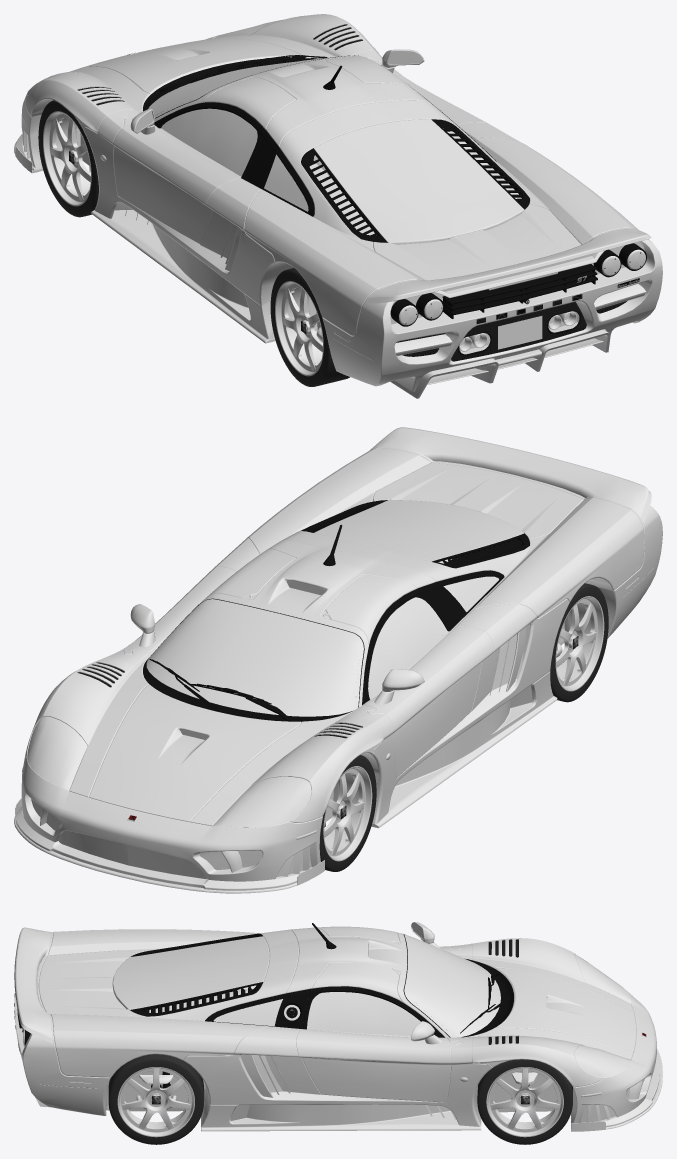
The model's file is vp_sln_s7_06.glb.
3 views of the same model, one above another, from view 1: azimuth 30°, elevation 25°; view 2: azimuth 150°, elevation 25°; view 3: azimuth 270°, elevation 25° (orthographic). The views are drawn at different scales.
Visible parts, largest first — view 1: vp_sln_s7_06/resources/vehicle/vp_sln_s7_06/fenders0_lod_0.x, vp_sln_s7_06/resources/vehicle/vp_sln_s7_06/body_lod_0.xrsc@ (×4), vp_sln_s7_06/resources/vehicle/vp_sln_s7_06/bumper_r0_lod_0. (×3), vp_sln_s7_06/resources/vehicle/vp_sln_s7_06/skirts0_lod_0.xr, vp_sln_s7_06/resources/vehicle/vp_sln_s7_06/door_l0_lod_0.xr, vp_sln_s7_06/resources/vehicle/vp_sln_s7_06/hood0_lod_0.xrsc, vp_sln_s7_06/resources/vehicle/vp_sln_s7_06/spoiler0_lod_0.x, shared/resources/rims/whl_stk_sln_s7_06@axl_2/model0, shared/resources/rims/whl_stk_sln_s7_06@axl_0/model0, vp_sln_s7_06/resources/vehicle/vp_sln_s7_06/door_r0_lod_0.xr, vp_sln_s7_06/resources/vehicle/vp_sln_s7_06/taillight0_lod_0, shared/resources/tires/models/tir_car@axl_2/model0 (+2 smaller); view 2: vp_sln_s7_06/resources/vehicle/vp_sln_s7_06/fenders0_lod_0.x, vp_sln_s7_06/resources/vehicle/vp_sln_s7_06/bumper_f0_lod_0., vp_sln_s7_06/resources/vehicle/vp_sln_s7_06/body_lod_0.xrsc@ (×4), vp_sln_s7_06/resources/vehicle/vp_sln_s7_06/skirts0_lod_0.xr, vp_sln_s7_06/resources/vehicle/vp_sln_s7_06/hood0_lod_0.xrsc, vp_sln_s7_06/resources/vehicle/vp_sln_s7_06/door_l0_lod_0.xr, vp_sln_s7_06/resources/vehicle/vp_sln_s7_06/spoiler0_lod_0.x, vp_sln_s7_06/resources/vehicle/vp_sln_s7_06/headlight0_lod_0, vp_sln_s7_06/resources/vehicle/vp_sln_s7_06/door_r0_lod_0.xr, vp_sln_s7_06/resources/vehicle/vp_sln_s7_06/bumper_r0_lod_0., shared/resources/rims/whl_stk_sln_s7_06@axl_2/model0, shared/resources/rims/whl_stk_sln_s7_06@axl_0/model0 (+2 smaller); view 3: vp_sln_s7_06/resources/vehicle/vp_sln_s7_06/fenders0_lod_0.x, vp_sln_s7_06/resources/vehicle/vp_sln_s7_06/skirts0_lod_0.xr, vp_sln_s7_06/resources/vehicle/vp_sln_s7_06/body_lod_0.xrsc@ (×3), vp_sln_s7_06/resources/vehicle/vp_sln_s7_06/door_r0_lod_0.xr, vp_sln_s7_06/resources/vehicle/vp_sln_s7_06/hood0_lod_0.xrsc, vp_sln_s7_06/resources/vehicle/vp_sln_s7_06/bumper_f0_lod_0., vp_sln_s7_06/resources/vehicle/vp_sln_s7_06/bumper_r0_lod_0., shared/resources/rims/whl_stk_sln_s7_06@axl_1/model0, shared/resources/rims/whl_stk_sln_s7_06@axl_3/model0, vp_sln_s7_06/resources/vehicle/vp_sln_s7_06/spoiler0_lod_0.x, shared/resources/tires/models/tir_car@axl_3/model0, shared/resources/tires/models/tir_car@axl_1/model0 (+3 smaller).
Boxes of the visible parts, x1,y1,x2,y2 form: vp_sln_s7_06/resources/vehicle/vp_sln_s7_06/fenders0_lod_0.x: (25,14,638,335); vp_sln_s7_06/resources/vehicle/vp_sln_s7_06/body_lod_0.xrsc@ (×4): (159,55,581,280); vp_sln_s7_06/resources/vehicle/vp_sln_s7_06/bumper_r0_lod_0. (×3): (322,227,662,398); vp_sln_s7_06/resources/vehicle/vp_sln_s7_06/skirts0_lod_0.xr: (83,50,518,343); vp_sln_s7_06/resources/vehicle/vp_sln_s7_06/door_l0_lod_0.xr: (113,77,296,244); vp_sln_s7_06/resources/vehicle/vp_sln_s7_06/hood0_lod_0.xrsc: (89,38,300,94); vp_sln_s7_06/resources/vehicle/vp_sln_s7_06/spoiler0_lod_0.x: (365,228,651,303); shared/resources/rims/whl_stk_sln_s7_06@axl_2/model0: (275,281,323,376); shared/resources/rims/whl_stk_sln_s7_06@axl_0/model0: (43,111,91,206); vp_sln_s7_06/resources/vehicle/vp_sln_s7_06/door_r0_lod_0.xr: (324,49,485,124); vp_sln_s7_06/resources/vehicle/vp_sln_s7_06/taillight0_lod_0: (390,243,646,326); shared/resources/tires/models/tir_car@axl_2/model0: (270,268,349,386); vp_sln_s7_06/resources/vehicle/vp_sln_s7_06/fenders0_lod_0.x: (25,447,644,826); vp_sln_s7_06/resources/vehicle/vp_sln_s7_06/bumper_f0_lod_0.: (14,756,324,893); vp_sln_s7_06/resources/vehicle/vp_sln_s7_06/body_lod_0.xrsc@ (×4): (149,462,583,721); vp_sln_s7_06/resources/vehicle/vp_sln_s7_06/skirts0_lod_0.xr: (107,538,569,828); vp_sln_s7_06/resources/vehicle/vp_sln_s7_06/hood0_lod_0.xrsc: (89,684,301,821); vp_sln_s7_06/resources/vehicle/vp_sln_s7_06/door_l0_lod_0.xr: (323,574,494,777); vp_sln_s7_06/resources/vehicle/vp_sln_s7_06/spoiler0_lod_0.x: (370,427,651,522); vp_sln_s7_06/resources/vehicle/vp_sln_s7_06/headlight0_lod_0: (27,716,311,827); vp_sln_s7_06/resources/vehicle/vp_sln_s7_06/door_r0_lod_0.xr: (122,548,296,654); vp_sln_s7_06/resources/vehicle/vp_sln_s7_06/bumper_r0_lod_0.: (373,446,662,645); shared/resources/rims/whl_stk_sln_s7_06@axl_2/model0: (555,596,604,691); shared/resources/rims/whl_stk_sln_s7_06@axl_0/model0: (323,766,372,861); vp_sln_s7_06/resources/vehicle/vp_sln_s7_06/fenders0_lod_0.x: (48,923,633,1112); vp_sln_s7_06/resources/vehicle/vp_sln_s7_06/skirts0_lod_0.xr: (183,932,492,1131); vp_sln_s7_06/resources/vehicle/vp_sln_s7_06/body_lod_0.xrsc@ (×3): (38,936,420,1035); vp_sln_s7_06/resources/vehicle/vp_sln_s7_06/door_r0_lod_0.xr: (296,962,461,1102); vp_sln_s7_06/resources/vehicle/vp_sln_s7_06/hood0_lod_0.xrsc: (496,968,636,1051); vp_sln_s7_06/resources/vehicle/vp_sln_s7_06/bumper_f0_lod_0.: (571,986,662,1131); vp_sln_s7_06/resources/vehicle/vp_sln_s7_06/bumper_r0_lod_0.: (14,932,184,1115); shared/resources/rims/whl_stk_sln_s7_06@axl_1/model0: (486,1067,563,1137); shared/resources/rims/whl_stk_sln_s7_06@axl_3/model0: (117,1067,194,1137); vp_sln_s7_06/resources/vehicle/vp_sln_s7_06/spoiler0_lod_0.x: (14,927,52,1043); shared/resources/tires/models/tir_car@axl_3/model0: (108,1054,204,1144); shared/resources/tires/models/tir_car@axl_1/model0: (477,1059,572,1144).
Size of the model in its own units: 2 by 1.36 by 4.77.
136 materials, 60 textured.
